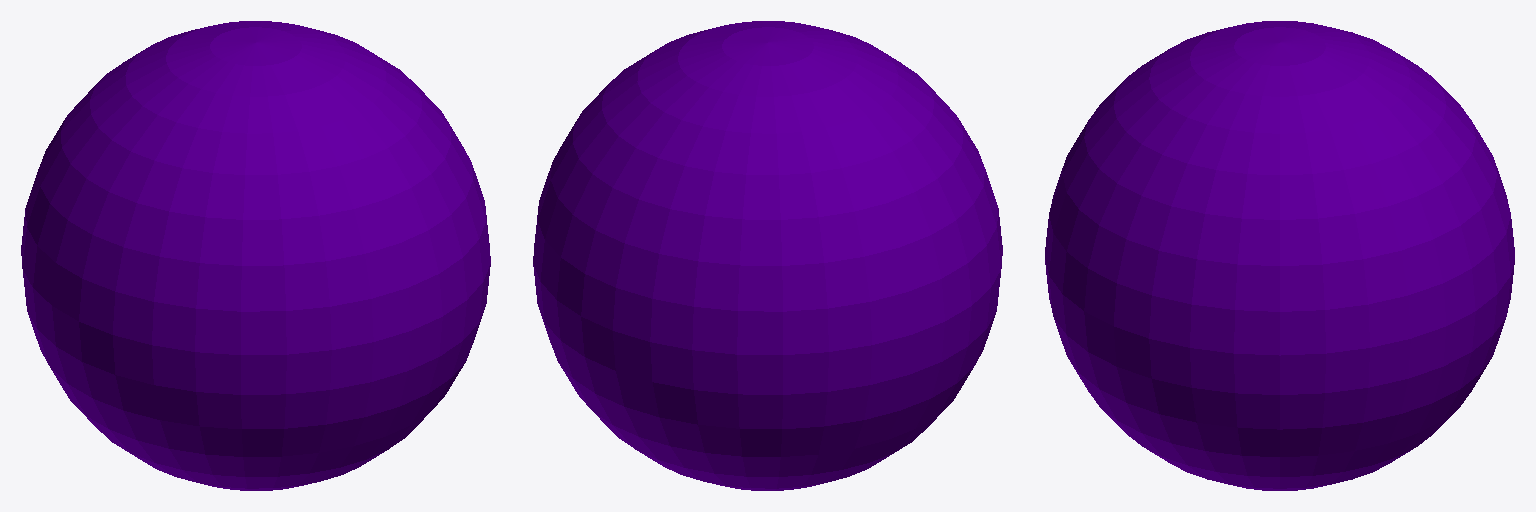
The model's file is purpleball.obj.
3 renders of one model, left to right at view 1: azimuth 30°, elevation 25°; view 2: azimuth 150°, elevation 25°; view 3: azimuth 270°, elevation 25°, orthographic.
Parts seen in each view (by area): view 1: Sphere; view 2: Sphere; view 3: Sphere.
Part boxes in pixels (x1,y1,x2,y2): Sphere: (21, 21, 490, 490); Sphere: (533, 21, 1002, 490); Sphere: (1045, 21, 1514, 490).
Bounding box in the file's own units: 2 × 2 × 2.